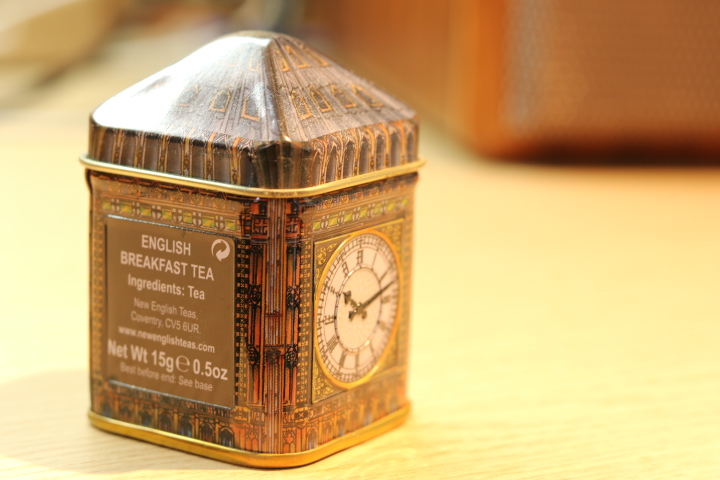Big Ben: (69, 18, 469, 477)
